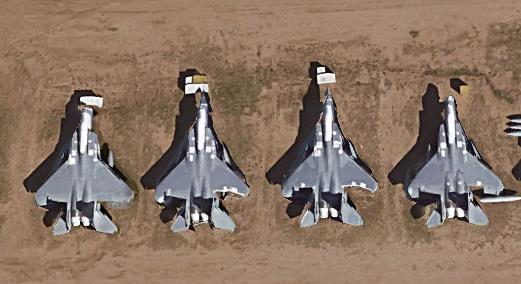F-15: (29, 87, 139, 240), (278, 83, 386, 230), (150, 81, 251, 235), (403, 93, 506, 230)
